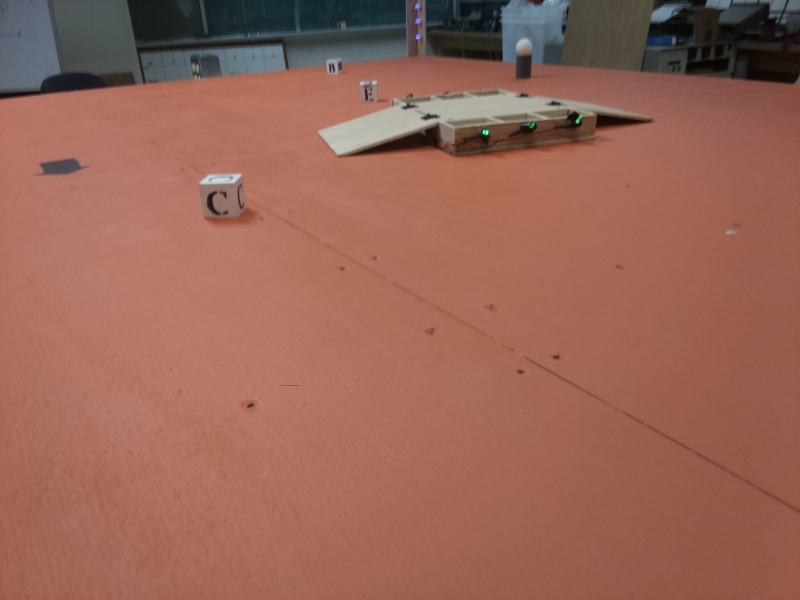blockB: (326, 59, 346, 77)
blockC: (194, 169, 251, 226)
blockE: (360, 80, 380, 103)
corner: (404, 1, 428, 65)
obstacle: (514, 40, 534, 83)
side: (437, 112, 601, 153)
slope: (318, 105, 434, 155), (541, 91, 659, 128)
start: (28, 155, 93, 175)
